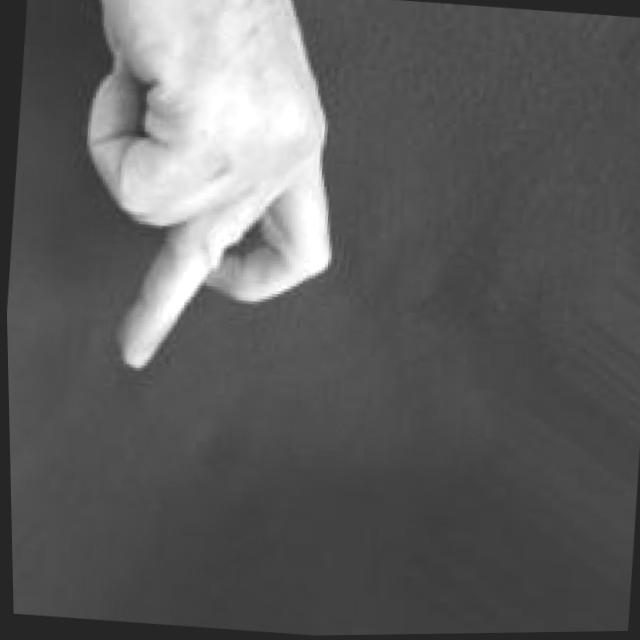P: (46, 0, 369, 392)
